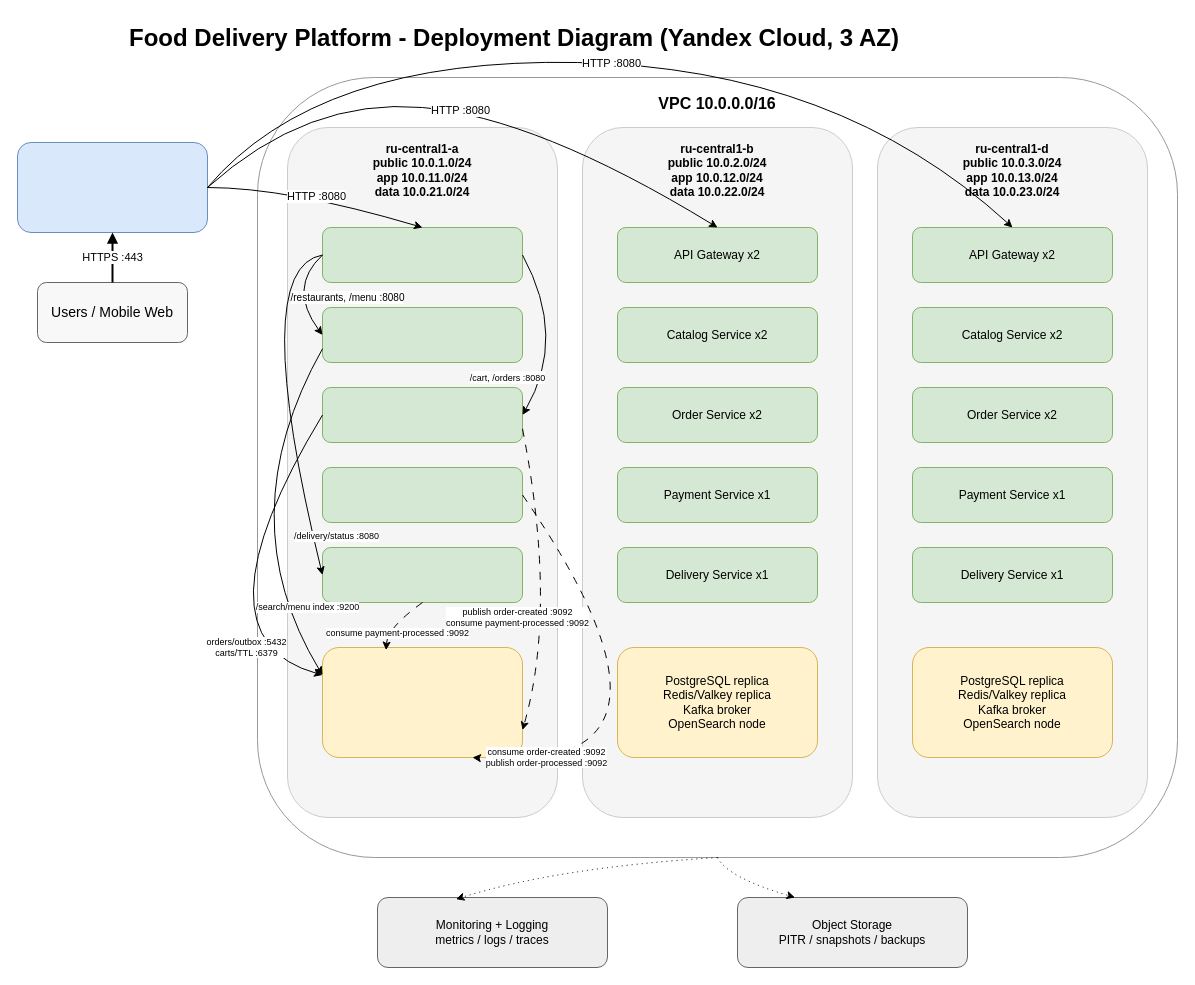
The diagram is 1195 pixels wide and 985 high, and some of its shapes have lost their labels. Each missing label, with the centre of its shape:
API Gateway x2 :8080: [422,254]
Application Load Balancer public :443 managed multi-AZ: [112,187]
Catalog Service x2 :8080: [422,334]
Delivery Service x1 :8080 + consumer: [422,574]
Order Service x2 :8080: [422,414]
Payment Service x1 Kafka consumer: [422,494]
PostgreSQL host :5432 Redis/Valkey :6379 Kafka broker :9092 OpenSearch :9200: [422,702]
